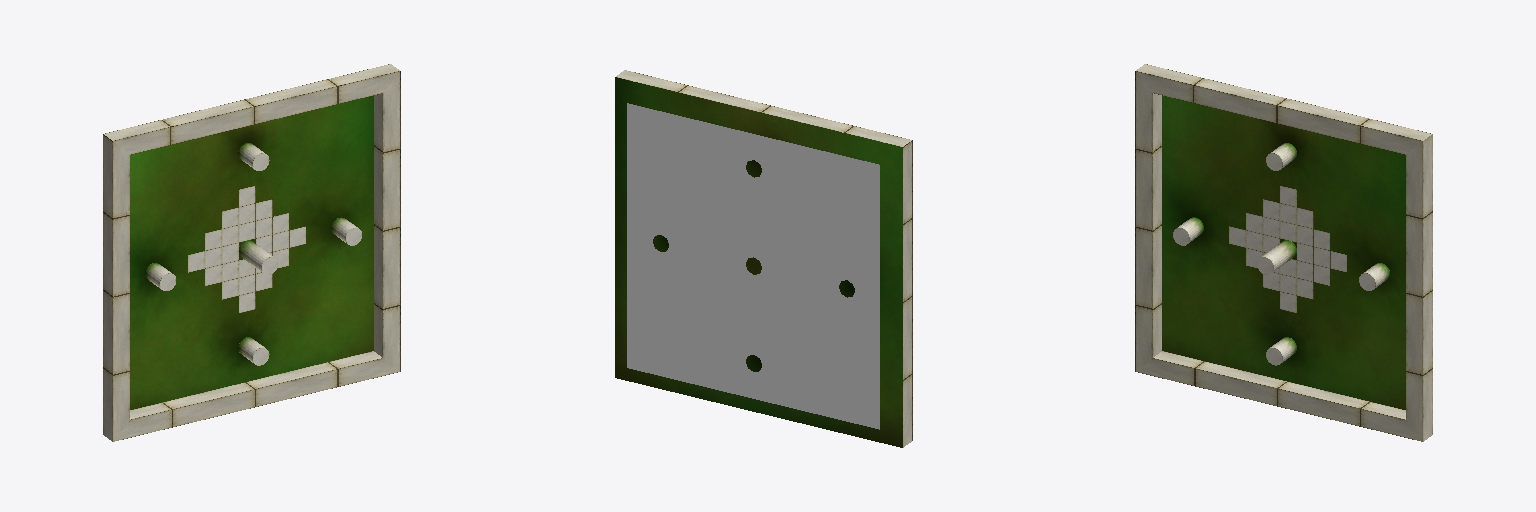
The picture shows the model from 3 angles: view 1: azimuth 30°, elevation 25°; view 2: azimuth 150°, elevation 25°; view 3: azimuth 330°, elevation 25°; orthographic projection.
Parts seen in each view (by area): view 1: GroundPlane_~tmp-mesh, Wall_~tmp-mesh, BigCylinder_~tmp-mesh, Cylinder1_~tmp-mesh, Cylinder4_~tmp-mesh, Cylinder3_~tmp-mesh, Cylinder2_~tmp-mesh; view 2: NaviMesh_~tmp-mesh, GroundPlane_~tmp-mesh, Wall_~tmp-mesh; view 3: GroundPlane_~tmp-mesh, Wall_~tmp-mesh, BigCylinder_~tmp-mesh, Cylinder3_~tmp-mesh, Cylinder1_~tmp-mesh, Cylinder4_~tmp-mesh, Cylinder2_~tmp-mesh.
Part boxes in pixels (left/top/right/bottom): GroundPlane_~tmp-mesh: left=130, top=96, right=373, bottom=409; Wall_~tmp-mesh: left=103, top=64, right=400, bottom=441; BigCylinder_~tmp-mesh: left=239, top=240, right=277, bottom=274; Cylinder1_~tmp-mesh: left=238, top=337, right=269, bottom=365; Cylinder4_~tmp-mesh: left=238, top=143, right=269, bottom=170; Cylinder3_~tmp-mesh: left=145, top=263, right=175, bottom=290; Cylinder2_~tmp-mesh: left=331, top=217, right=361, bottom=245; NaviMesh_~tmp-mesh: left=627, top=103, right=879, bottom=429; GroundPlane_~tmp-mesh: left=615, top=77, right=902, bottom=447; Wall_~tmp-mesh: left=616, top=70, right=912, bottom=447; GroundPlane_~tmp-mesh: left=1162, top=96, right=1405, bottom=409; Wall_~tmp-mesh: left=1135, top=64, right=1432, bottom=441; BigCylinder_~tmp-mesh: left=1257, top=240, right=1296, bottom=274; Cylinder3_~tmp-mesh: left=1173, top=217, right=1203, bottom=245; Cylinder1_~tmp-mesh: left=1266, top=337, right=1296, bottom=365; Cylinder4_~tmp-mesh: left=1266, top=143, right=1296, bottom=170; Cylinder2_~tmp-mesh: left=1359, top=263, right=1389, bottom=290.
Size of the model in its own units: 17.03 by 17.03 by 2.93.
5 materials, 4 textured.